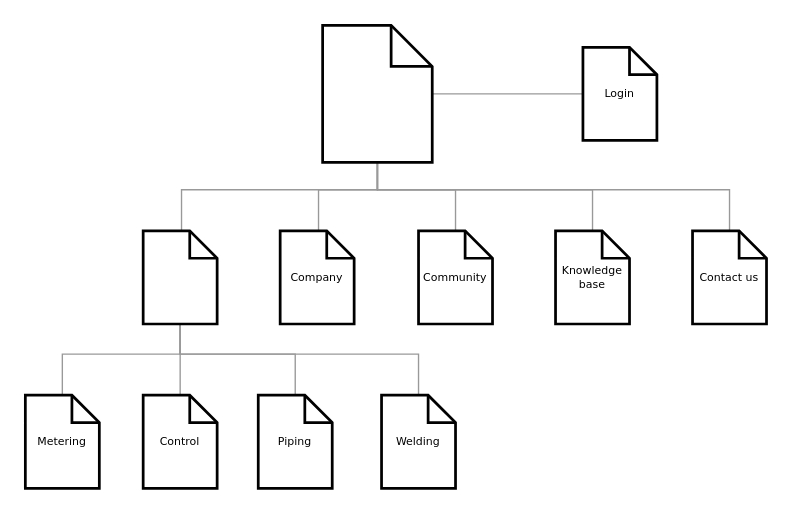
Image size: 790x512. Some labels were removed from this diagram. Each missing label, with the box of its shape:
Home: (321, 23, 433, 163)
Products: (141, 229, 218, 325)
